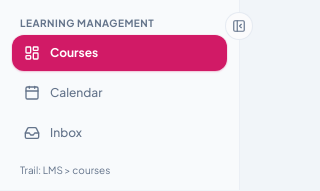
Test: LMSContextPanel Collapsible Assessments › minimizes and expands navigation when toggle button is clicked
Expected: the text "Learning Management" is shown, [20, 17, 154, 29]
Click the button named "Minimize Learning Management navigation" at (239, 26), box [225, 12, 253, 40]
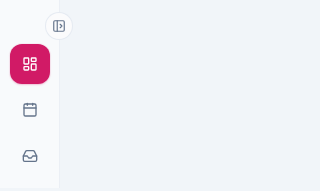
Expected: the text "Learning Management" is gone
Expected: the button named "Courses" is shown, [10, 44, 50, 84]
Expected: the button named "Calendar" is shown, [10, 90, 50, 130]
Click the button named "Expand Learning Management navigation" at (59, 26), box [45, 12, 73, 40]
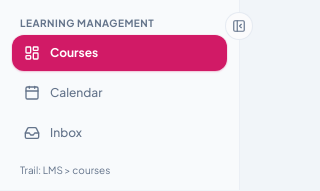
Expected: the text "Learning Management" is shown, [20, 17, 154, 29]
